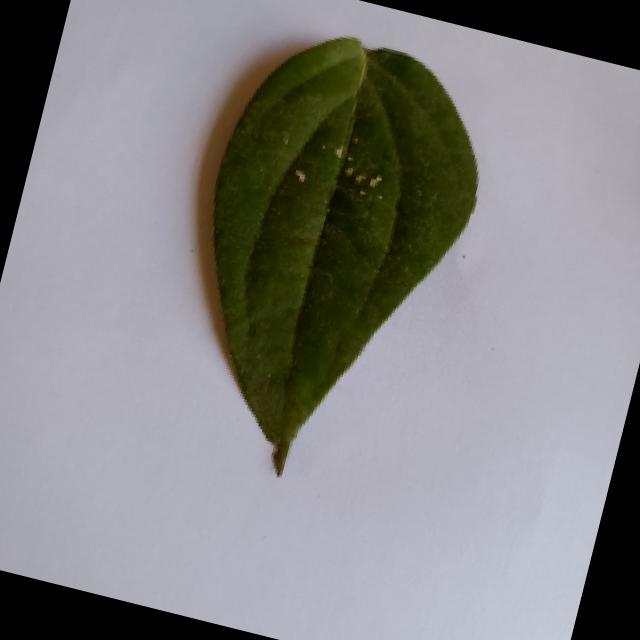pollu-disease: (148, 8, 516, 506)
